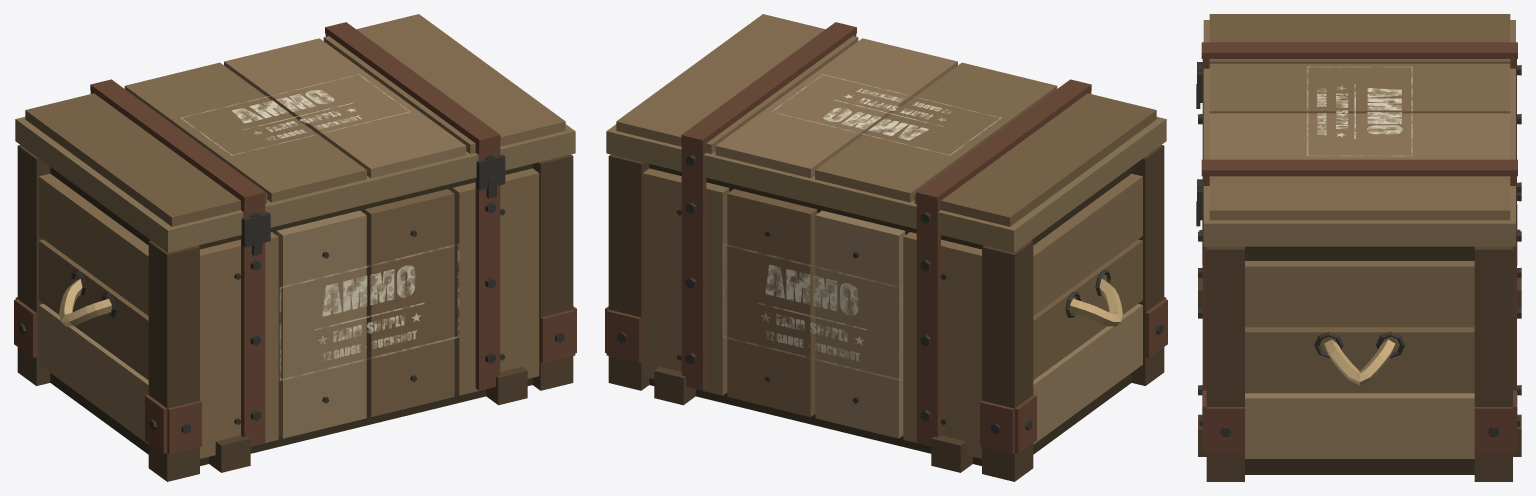
File: farm-ammo-crate-bare.glb
3 views of the same model, side by side, from view 1: azimuth 30°, elevation 25°; view 2: azimuth 150°, elevation 25°; view 3: azimuth 270°, elevation 25° (orthographic). The views are drawn at different scales.
Parts seen in each view (by area): view 1: Crate; view 2: Crate; view 3: Crate.
Part boxes in pixels (x1,y1,x2,y2): Crate: [14, 14, 576, 481]; Crate: [605, 14, 1167, 481]; Crate: [1196, 14, 1521, 481].
Bounding box in the file's own units: 2.88 × 1.57 × 1.69.
12 materials, 1 textured.
